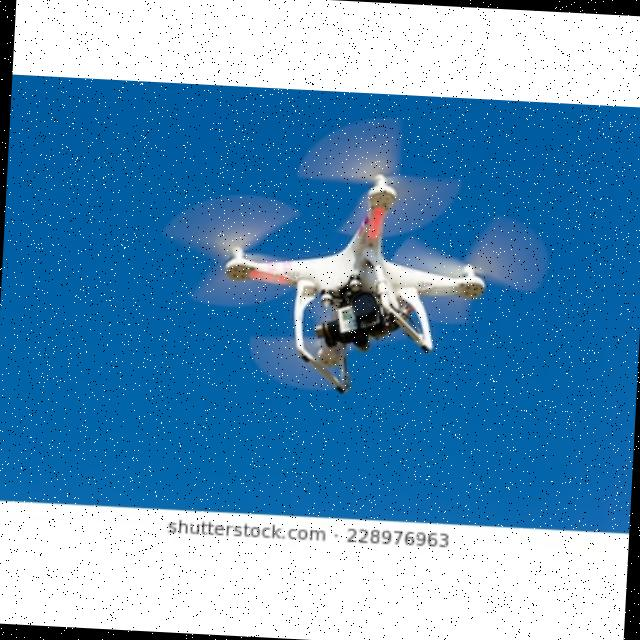Drones: (196, 158, 532, 396)
